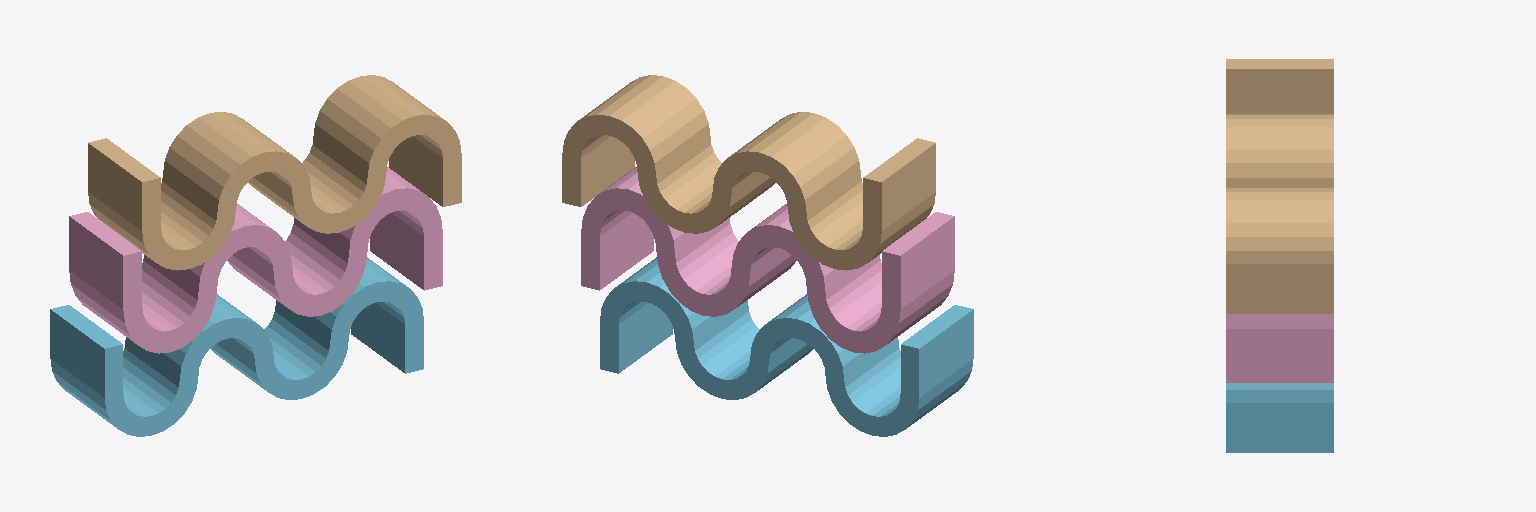
The model's file is tinker.obj.
The picture shows the model from 3 angles: view 1: azimuth 30°, elevation 25°; view 2: azimuth 150°, elevation 25°; view 3: azimuth 270°, elevation 25°; orthographic projection.
Parts seen in each view (by area): view 1: obj_0; view 2: obj_0; view 3: obj_0.
Part boxes in pixels (left/top/right/bottom): obj_0: left=50, top=75, right=461, bottom=436; obj_0: left=562, top=75, right=973, bottom=436; obj_0: left=1226, top=59, right=1333, bottom=452.
Bounding box in the file's own units: 38 × 26 × 10.